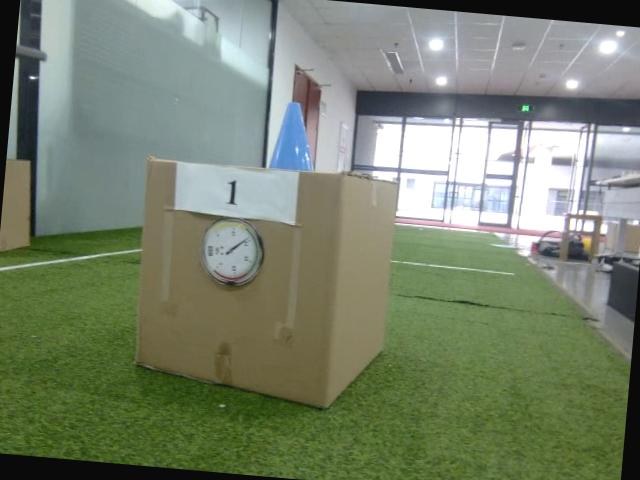1: (224, 178, 239, 205)
Dashboard: (196, 214, 266, 290)
blue_barrel: (267, 100, 319, 171)
ssi: (206, 245, 213, 256)
